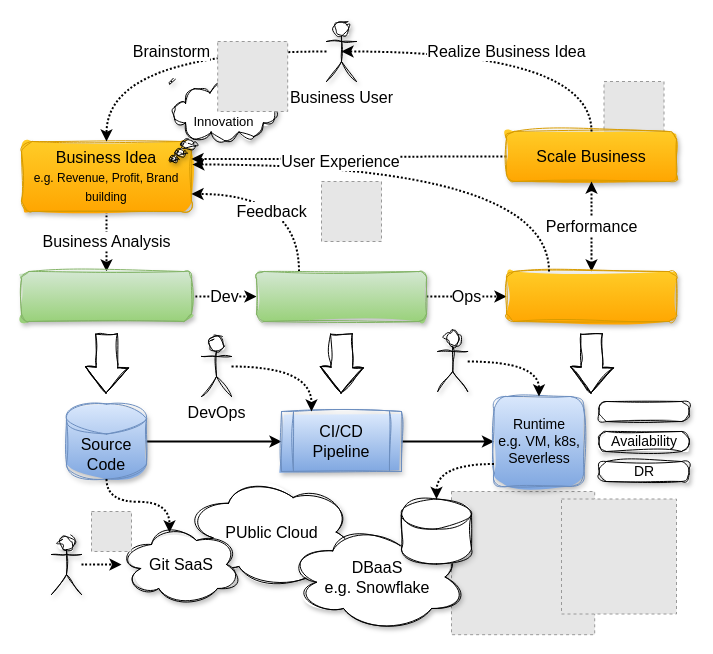
Some shapes in this 713 by 654 pixel diagram are drawn without their labels. Grey dashed boxes stand in for pictures. Each missing label, with the centre of its shape:
Accelerate Go To Market: [342,297]
Business Resiliency: [592,297]
Data: [437,532]
Developer: [67,566]
Security: [644,412]
SRE: [453,362]
Technical Requirement: [107,297]
